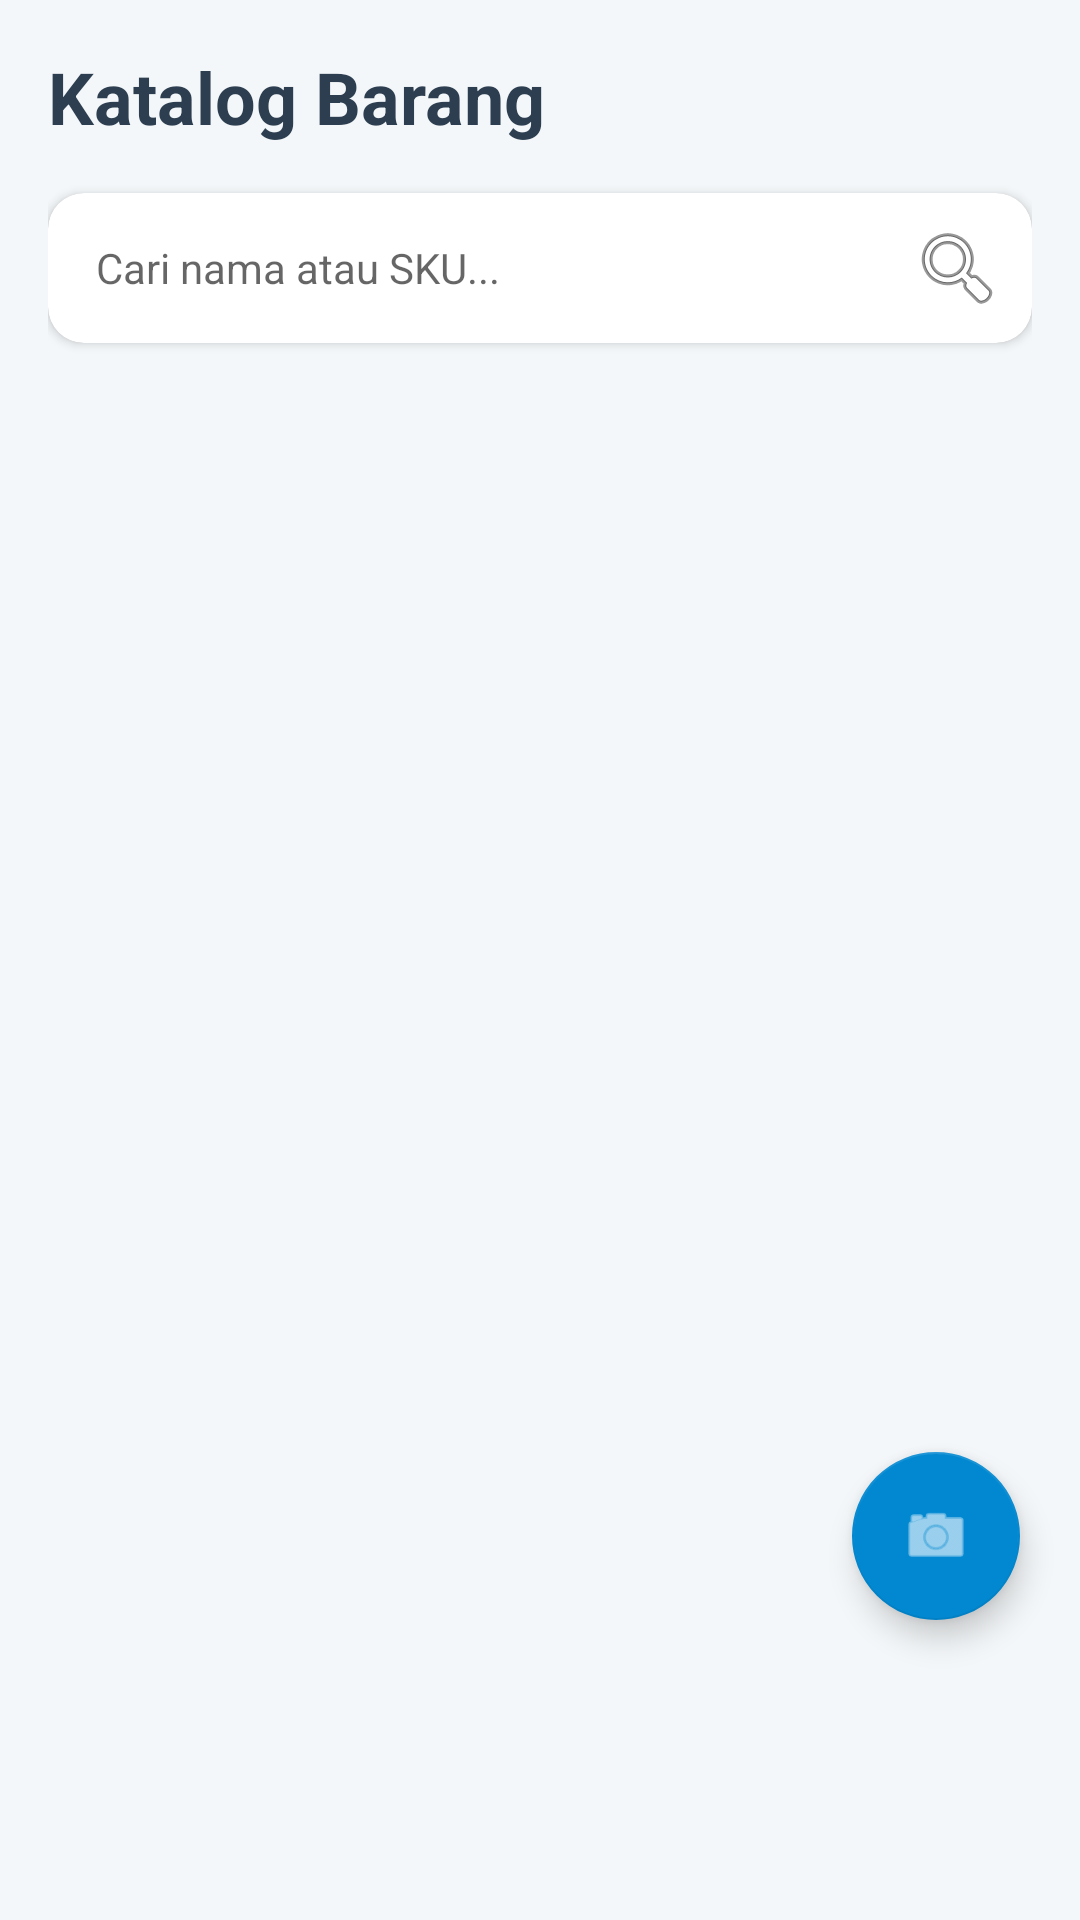

Screen size 1080px x 1920px. Icon name, then its center in pixels as [x,y]:
camera: [936,1536]
